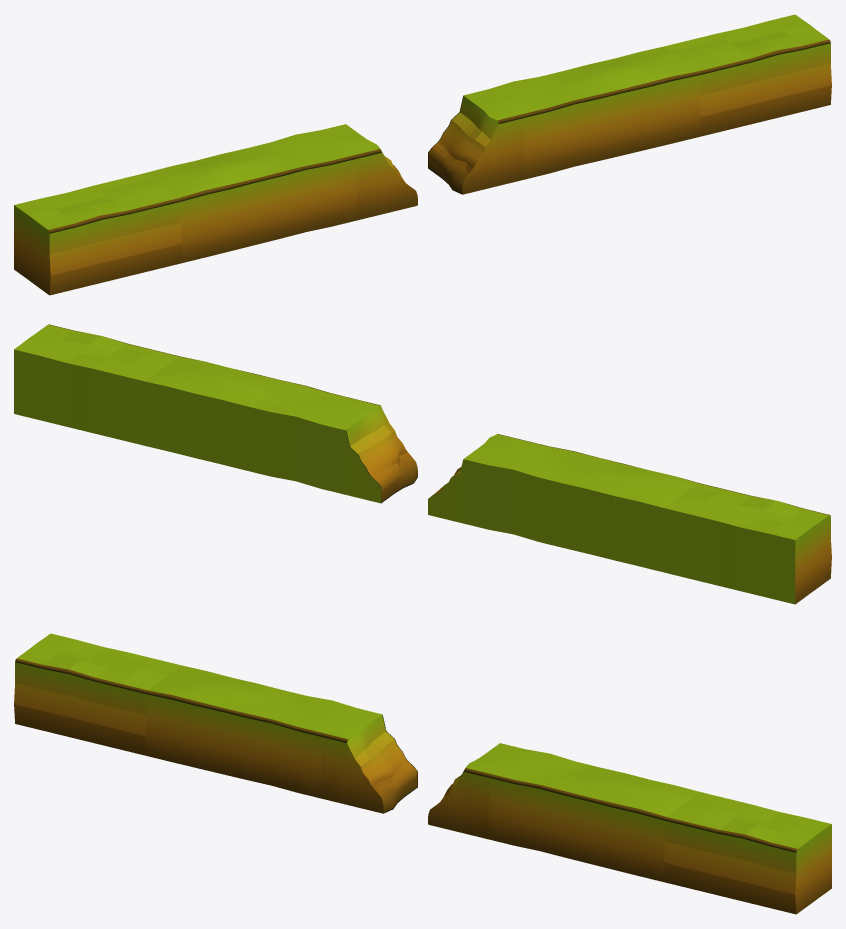
The model's file is Plateforme.FBX.
3 views of the same model, one above another, from view 1: azimuth 30°, elevation 25°; view 2: azimuth 150°, elevation 25°; view 3: azimuth 330°, elevation 25° (orthographic).
Parts seen in each view (by area): view 1: Terrain2, Terrain1; view 2: Terrain2, Terrain1; view 3: Terrain1, Terrain2.
Part boxes in pixels (box(x1,y1,x2,y2)): Terrain2: box(428, 14, 831, 194); Terrain1: box(14, 124, 417, 295); Terrain2: box(14, 324, 417, 503); Terrain1: box(428, 434, 831, 604); Terrain1: box(14, 633, 417, 813); Terrain2: box(428, 743, 831, 914).
Bounding box in the file's own units: 500 × 42.36 × 40.72.
Materials: 1 (1 with a texture image).
